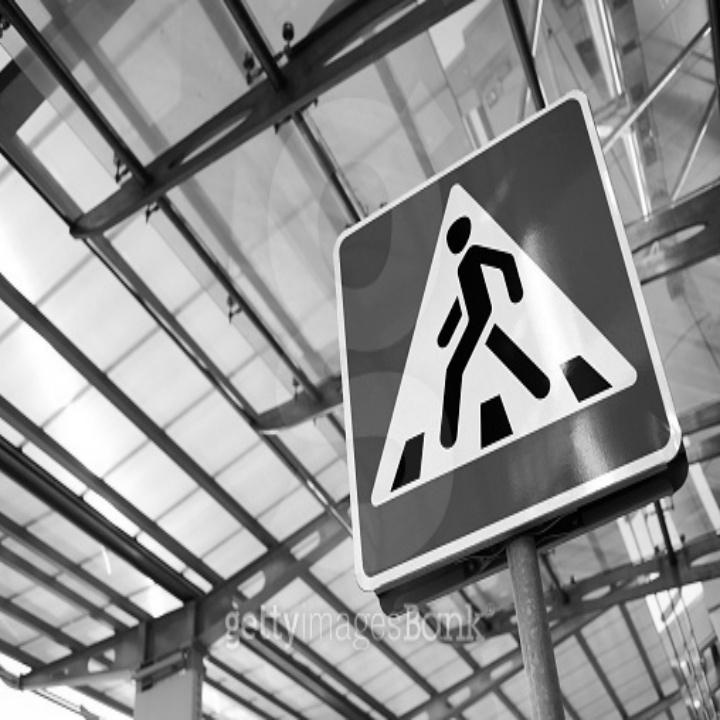cross: (381, 205, 623, 502)
